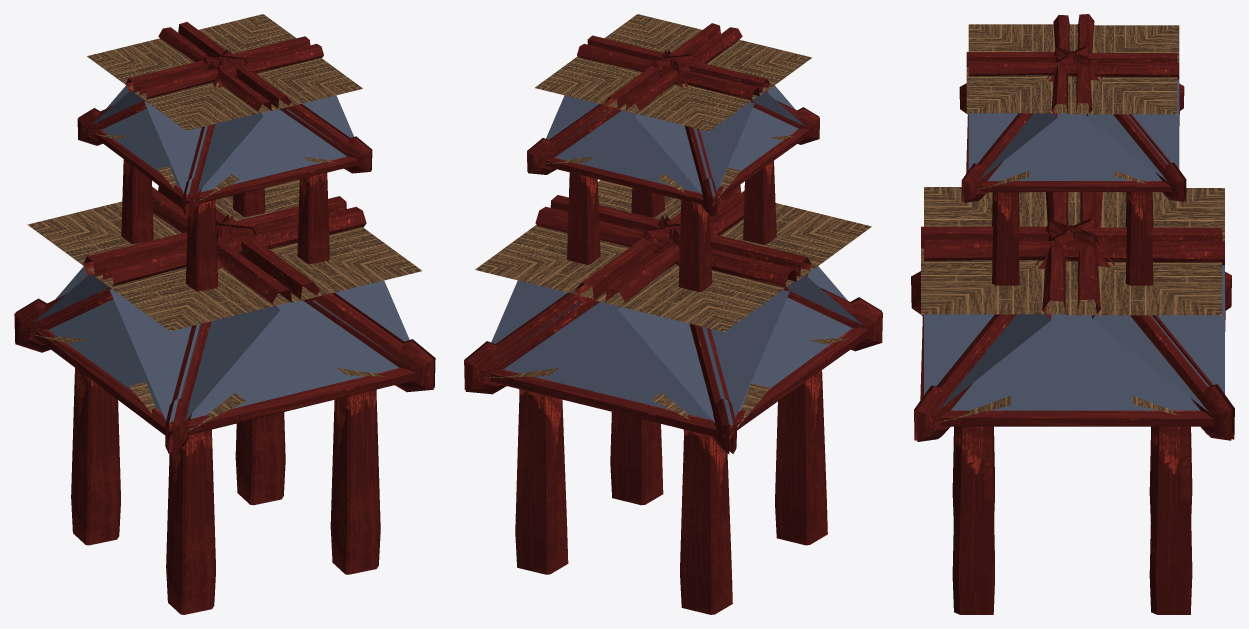
File: city_t3_asian.glb
3 renders of one model, left to right at view 1: azimuth 30°, elevation 25°; view 2: azimuth 150°, elevation 25°; view 3: azimuth 270°, elevation 25°, orthographic. The views are drawn at different scales.
Parts seen in each view (by area): view 1: TempleRoof01Corner_Art_37, TempleRoof01Corner_Art_39, TempleRoof01Corner_Art_38; view 2: TempleRoof01Corner_Art_37, TempleRoof01Corner_Art_39, TempleRoof01Corner_Art_38; view 3: TempleRoof01Corner_Art_37, TempleRoof01Corner_Art_39, TempleRoof01Corner_Art_38.
Part boxes in pixels (x1,y1,x2,y2): TempleRoof01Corner_Art_37: (14,22,435,614); TempleRoof01Corner_Art_39: (34,85,409,422); TempleRoof01Corner_Art_38: (27,14,421,431); TempleRoof01Corner_Art_37: (464,23,882,614); TempleRoof01Corner_Art_39: (491,85,862,425); TempleRoof01Corner_Art_38: (475,14,871,431); TempleRoof01Corner_Art_37: (911,14,1234,614); TempleRoof01Corner_Art_39: (924,79,1224,411); TempleRoof01Corner_Art_38: (921,24,1224,422).
Bounding box in the file's own units: 9.21 × 16.03 × 9.21.
Materials: 4 (3 with a texture image).
